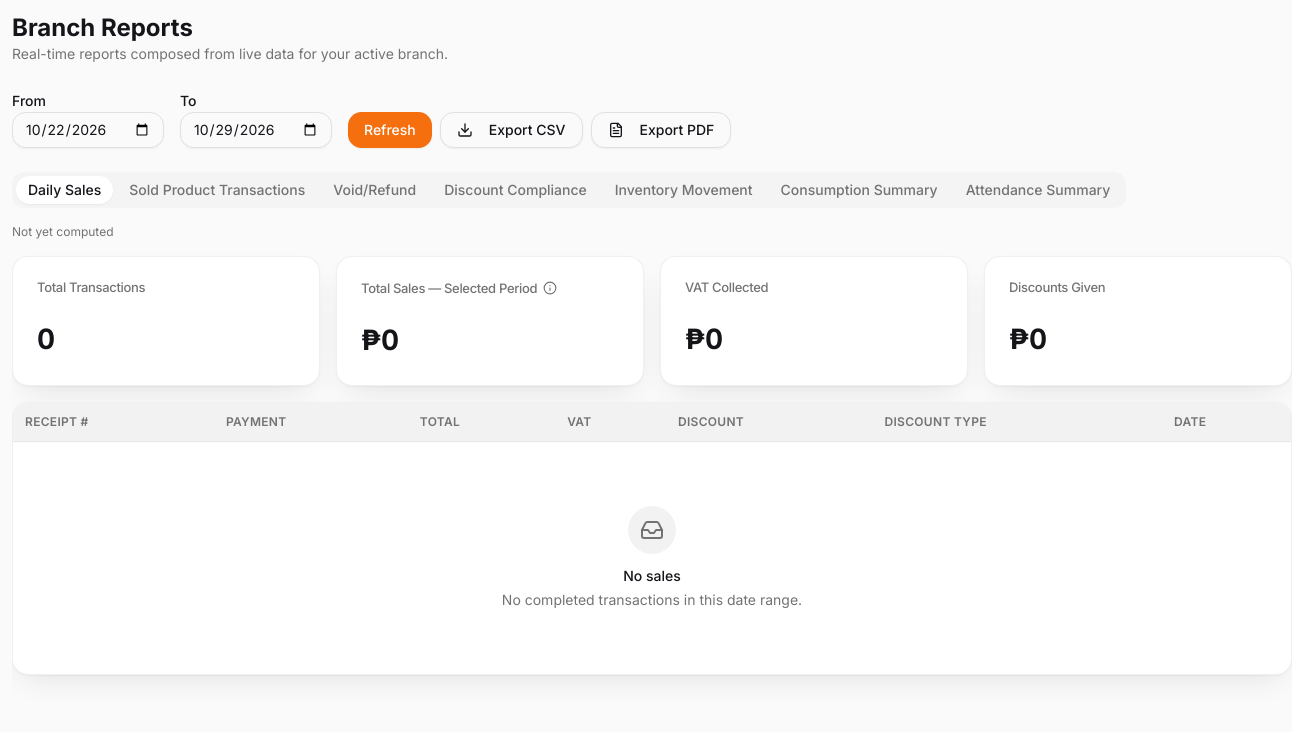
Test: ReportsView — Inventory Movement tab (aligned InventoryStockMovement source) › TEST C — renders a SALE movement with a negative quantity change
This screenshot has width=1292, height=732.
Press the mouse on the tab "Inventory Movement" at {"x": 684, "y": 190}, box left=603, top=176, right=765, bottom=204
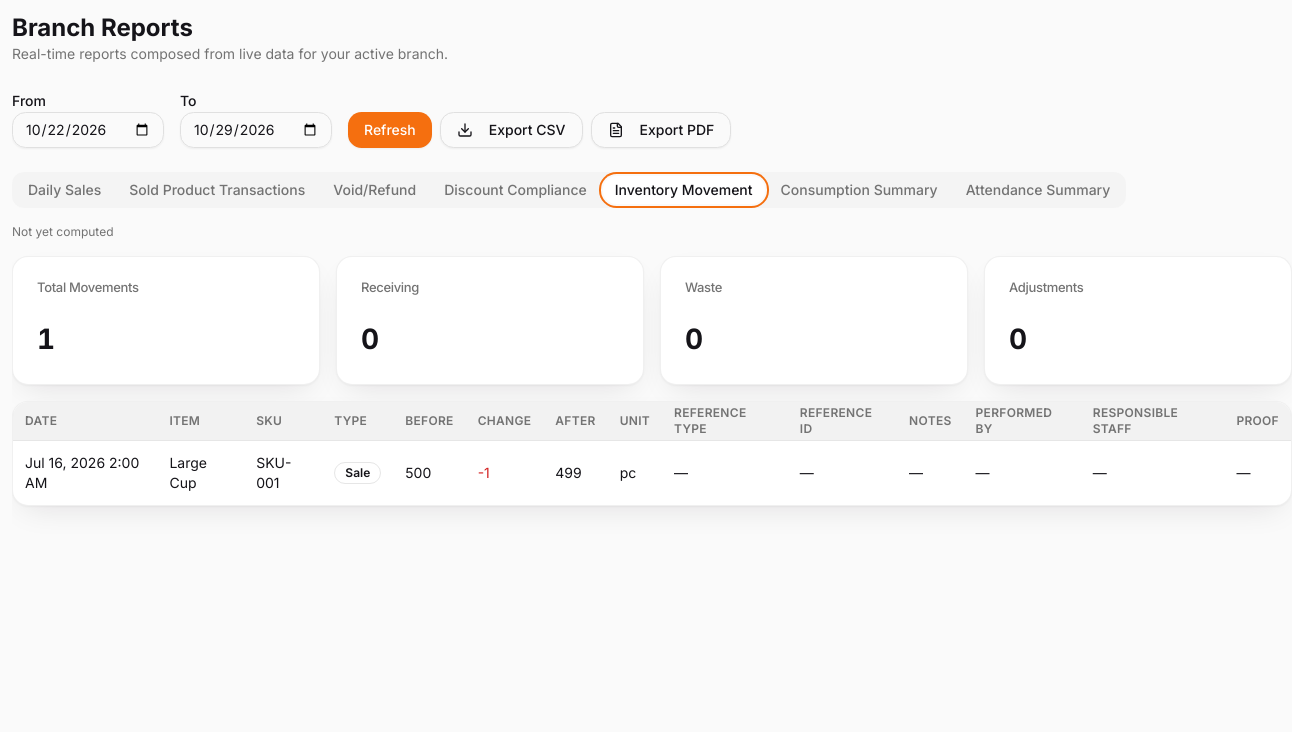
expect the text "Large Cup" is shown: met, box left=170, top=454, right=207, bottom=490
expect the text "-1" is shown: met, box left=478, top=464, right=490, bottom=480
expect the text "499" is shown: met, box left=543, top=440, right=608, bottom=504
